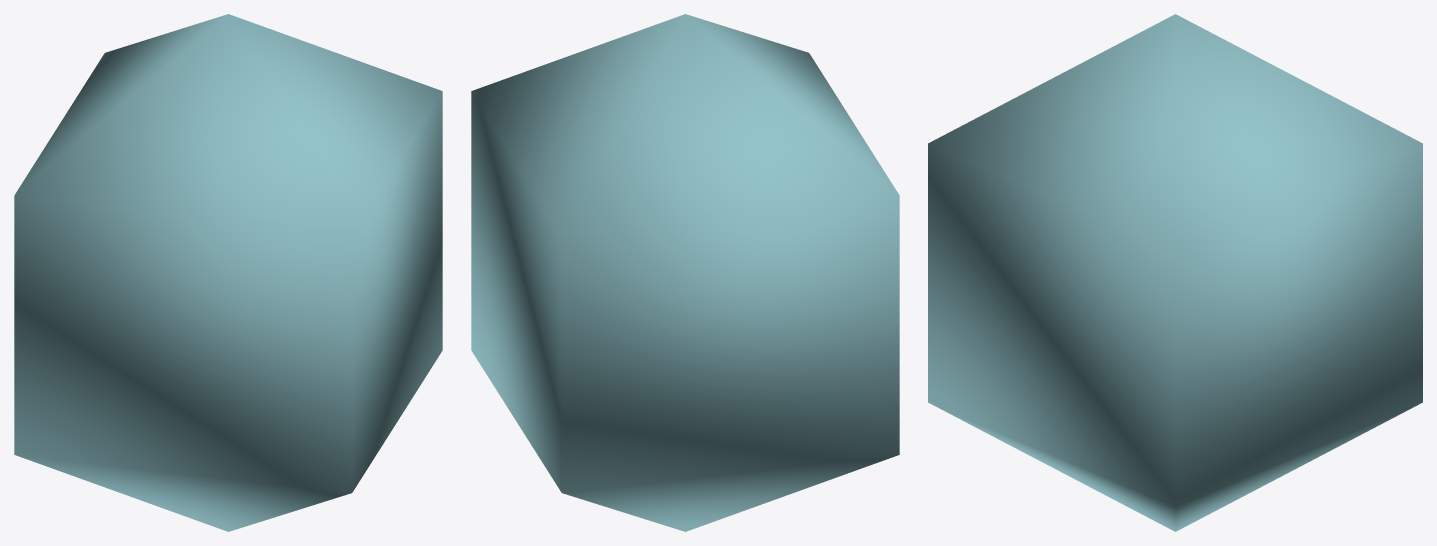
File: particle.glb
The picture shows the model from 3 angles, left to right: view 1: azimuth 30°, elevation 25°; view 2: azimuth 150°, elevation 25°; view 3: azimuth 270°, elevation 25°; orthographic projection.
Parts seen in each view (by area): view 1: particle; view 2: particle; view 3: particle.
Part boxes in pixels (bbox=[...]): particle: bbox=[14, 14, 442, 531]; particle: bbox=[471, 14, 899, 531]; particle: bbox=[928, 14, 1422, 531].
Size of the model in its own units: 0.0433 by 0.05 by 0.0433.
